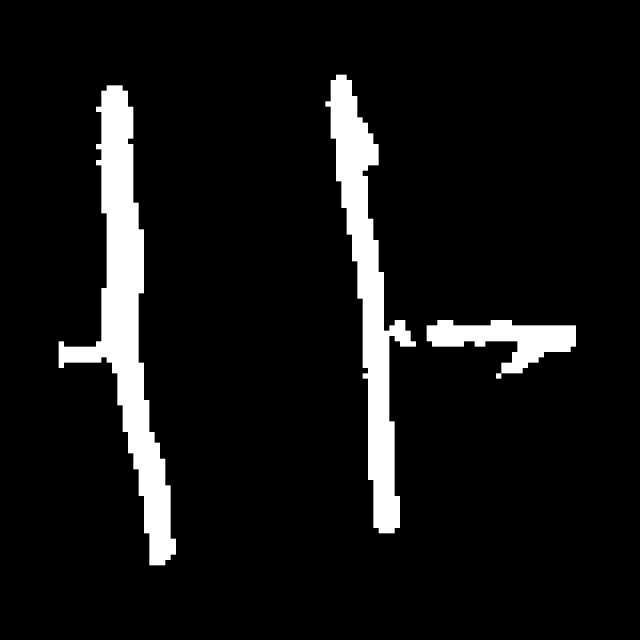capacitor: (88, 56, 414, 583)
